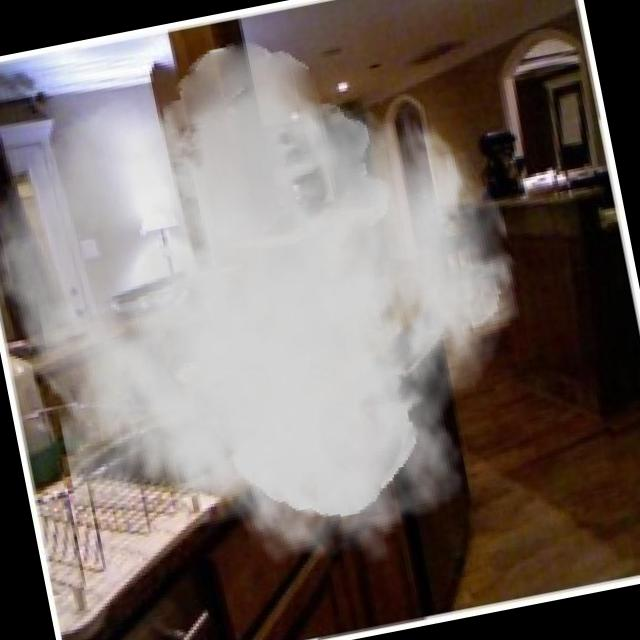Smoke: (60, 94, 452, 495)
